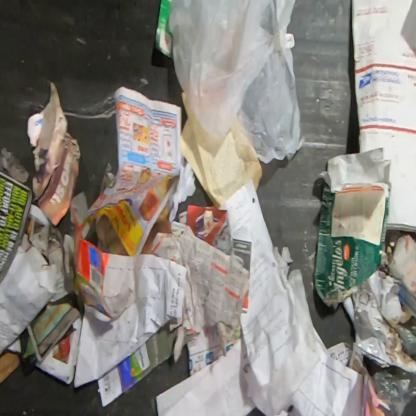cardboard: (350, 0, 415, 235), (313, 146, 395, 312), (0, 349, 21, 384)
soft_plastic: (169, 0, 306, 166), (362, 315, 415, 415)
